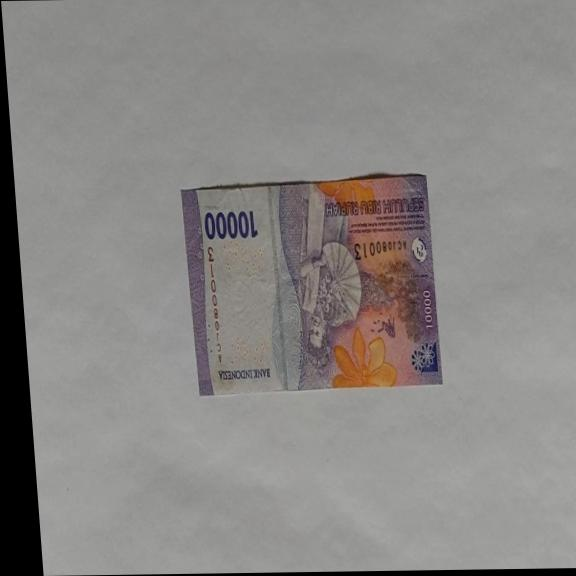Kertas: (179, 173, 444, 397), (202, 208, 259, 242)
